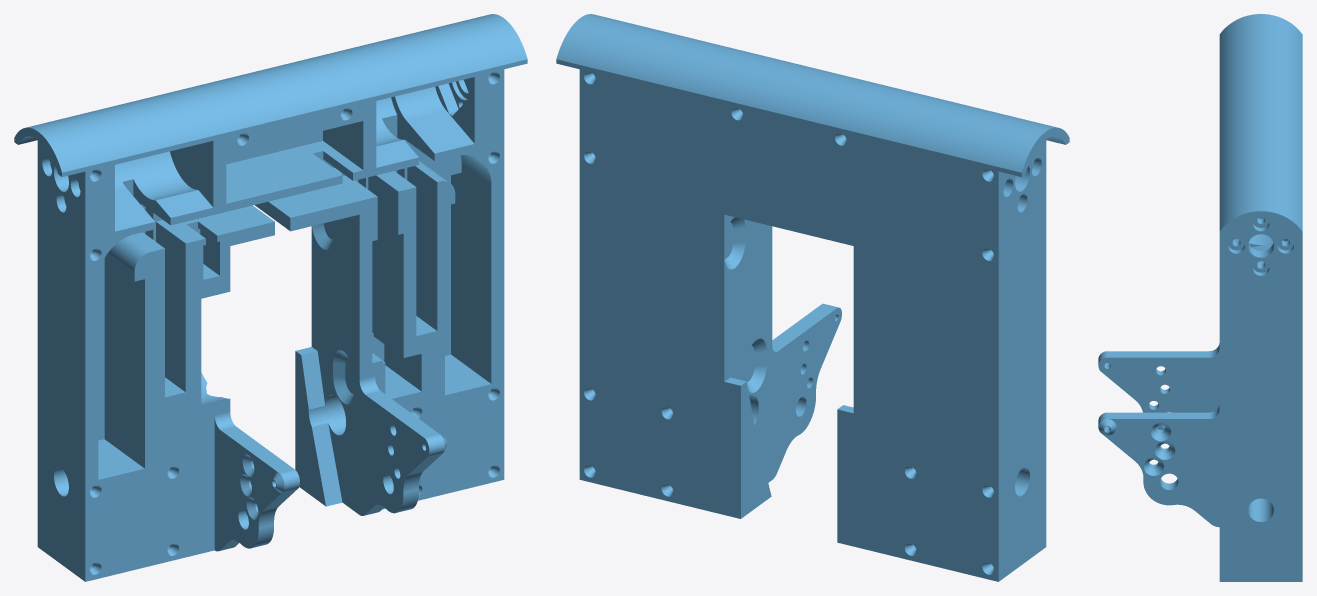
Rendered from MBMK3_Chassis.gltf.
3 views of the same model, side by side, from view 1: azimuth 30°, elevation 25°; view 2: azimuth 150°, elevation 25°; view 3: azimuth 270°, elevation 25° (orthographic). The views are drawn at different scales.
Visible parts, largest first — view 1: mesh3284, mesh3361, mesh3530, mesh3594, mesh3334, mesh3341, mesh3493, mesh3328, mesh3294, mesh3302, mesh3305, mesh3484 (+28 smaller); view 2: mesh3605, mesh3361, mesh3530, mesh3594, mesh3484, mesh3373; view 3: mesh3504, mesh3361, mesh3496, mesh3487, mesh3375, mesh3379, mesh3373, mesh3477.
Boxes of the visible parts, x1,y1,x2,y2 form: mesh3284: (62, 59, 527, 581); mesh3361: (27, 14, 527, 172); mesh3530: (37, 140, 85, 581); mesh3594: (311, 214, 429, 515); mesh3334: (451, 163, 491, 383); mesh3341: (104, 260, 144, 468); mesh3493: (214, 417, 281, 551); mesh3328: (226, 141, 362, 203); mesh3294: (372, 220, 403, 357); mesh3302: (407, 166, 437, 330); mesh3305: (156, 222, 185, 391); mesh3484: (295, 351, 325, 506); mesh3605: (556, 59, 1021, 581); mesh3361: (556, 14, 1056, 172); mesh3530: (998, 140, 1046, 581); mesh3594: (724, 214, 841, 482); mesh3484: (741, 381, 771, 518); mesh3373: (772, 304, 836, 350); mesh3504: (1219, 218, 1302, 581); mesh3361: (1219, 14, 1302, 231); mesh3496: (1103, 411, 1219, 527); mesh3487: (1098, 350, 1219, 429); mesh3375: (1219, 211, 1302, 235); mesh3379: (1107, 351, 1209, 357); mesh3373: (1107, 412, 1209, 418); mesh3477: (1248, 498, 1273, 521).
Size of the model in its own units: 0.18 by 0.162 by 0.0788.
